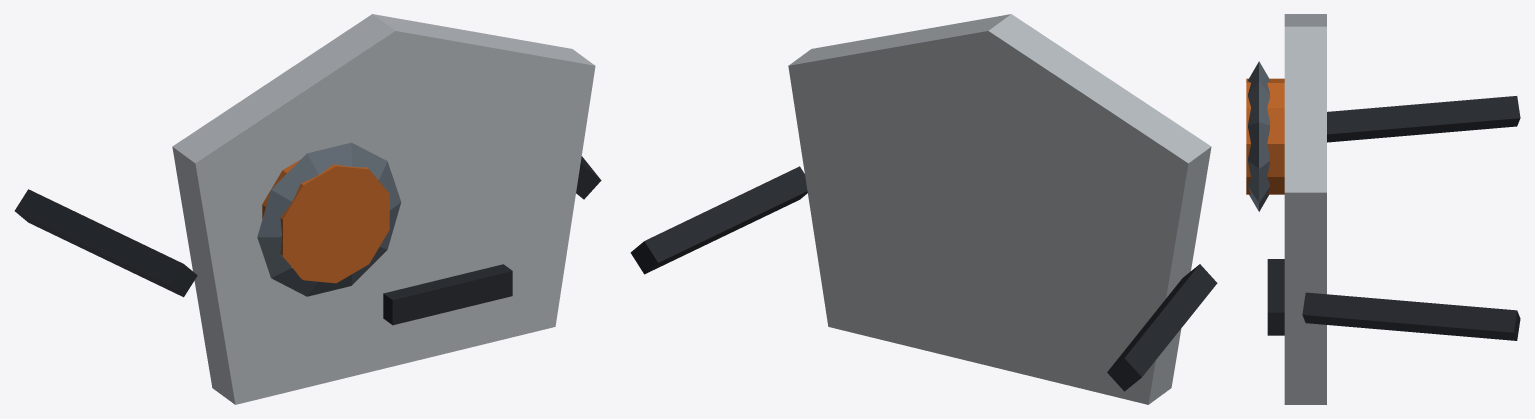
The model's file is facial-prosthesis.glb.
3 views of the same model, side by side, from view 1: azimuth 30°, elevation 25°; view 2: azimuth 150°, elevation 25°; view 3: azimuth 270°, elevation 25° (orthographic). The views are drawn at different scales.
Parts seen in each view (by area): view 1: m; view 2: m; view 3: m.
Boxes of the visible parts, x1,y1,x2,y2 form: m: [14, 14, 601, 404]; m: [630, 14, 1217, 404]; m: [1246, 14, 1520, 404].
Size of the model in its own units: 0.1 by 0.0626 by 0.0507.
